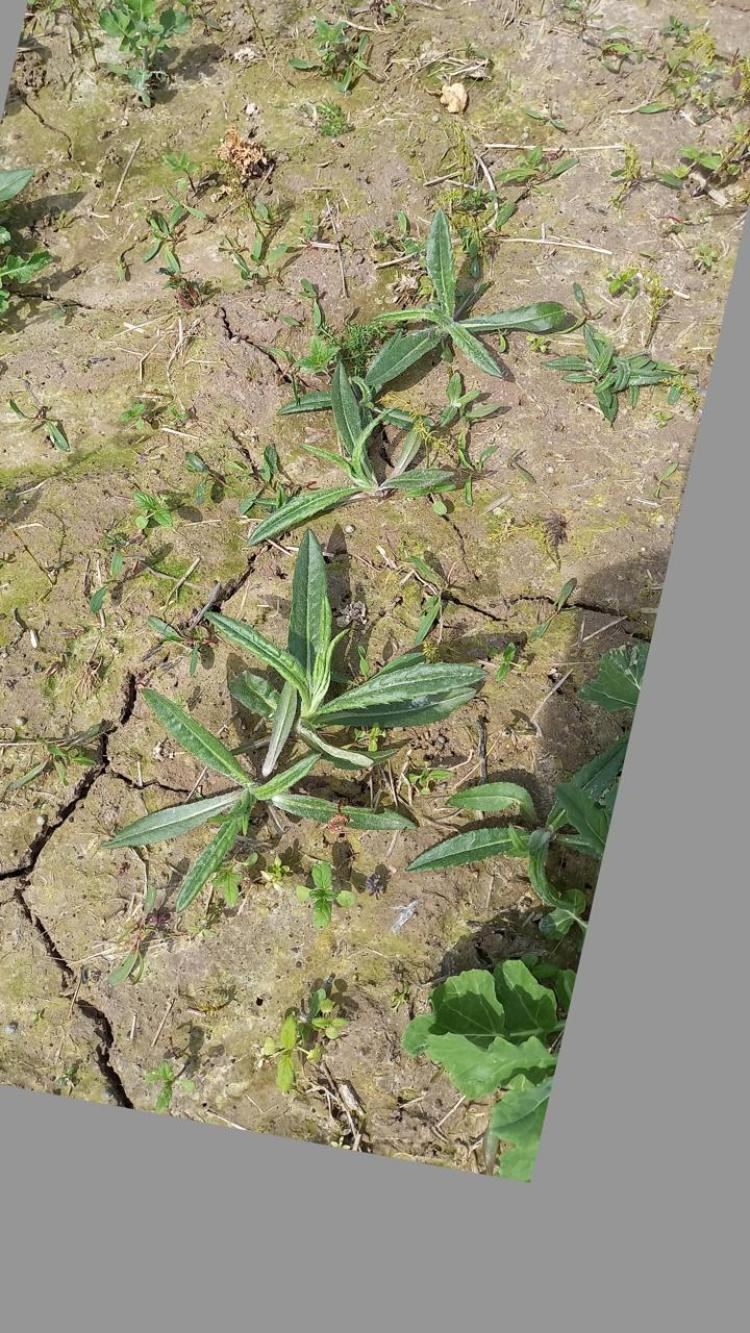osot: (108, 681, 425, 900), (182, 542, 484, 771), (329, 206, 588, 398), (248, 358, 475, 558)
